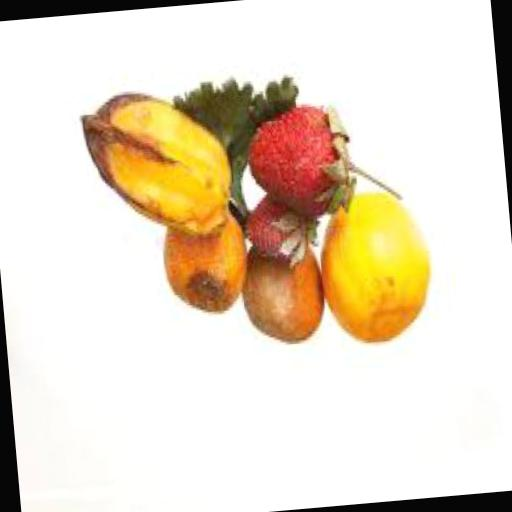biodegradable: (80, 83, 240, 247), (171, 74, 311, 228), (315, 189, 440, 350), (244, 100, 362, 224), (161, 202, 254, 318), (238, 234, 334, 346), (244, 187, 326, 272)
